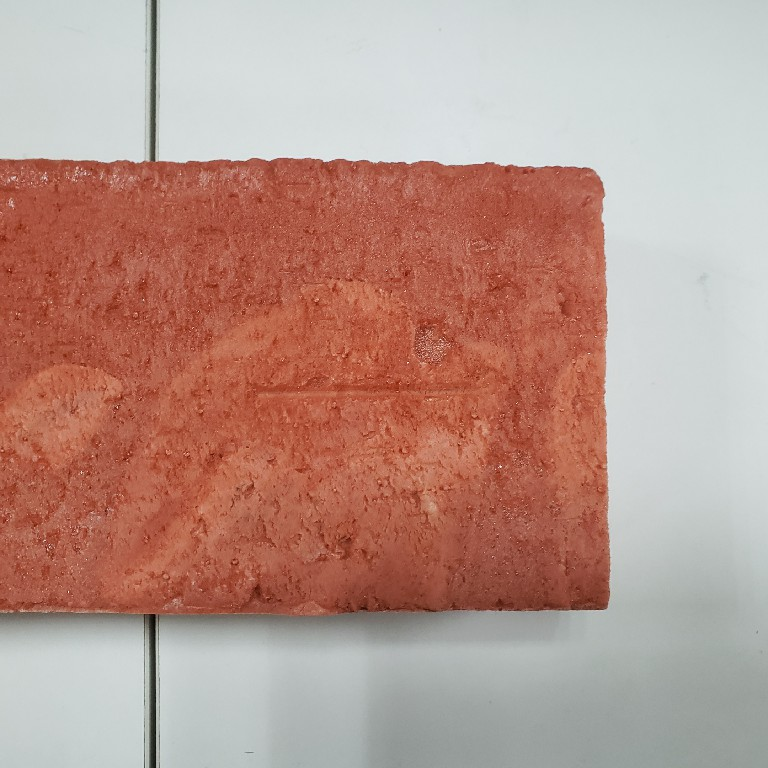brick: (1, 148, 620, 626)
